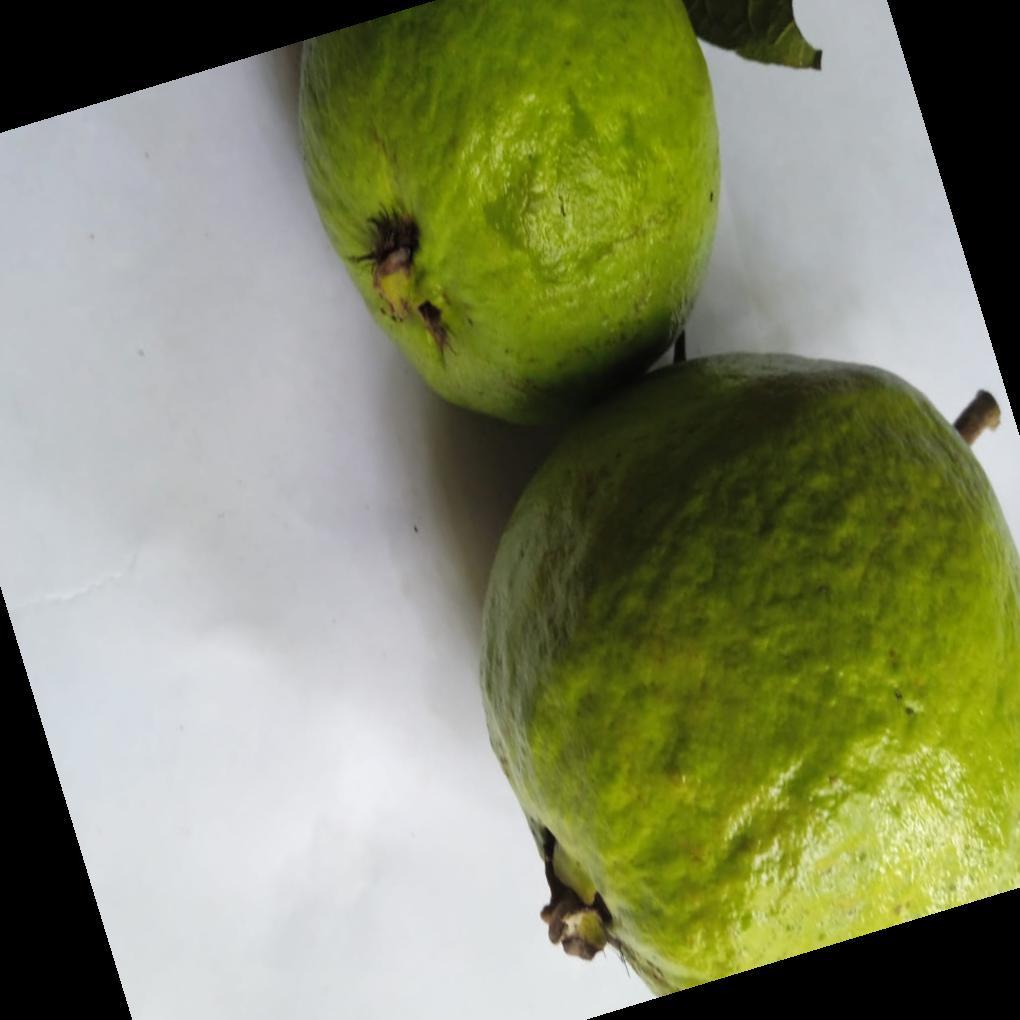FreshGuava: (294, 0, 1020, 998)
